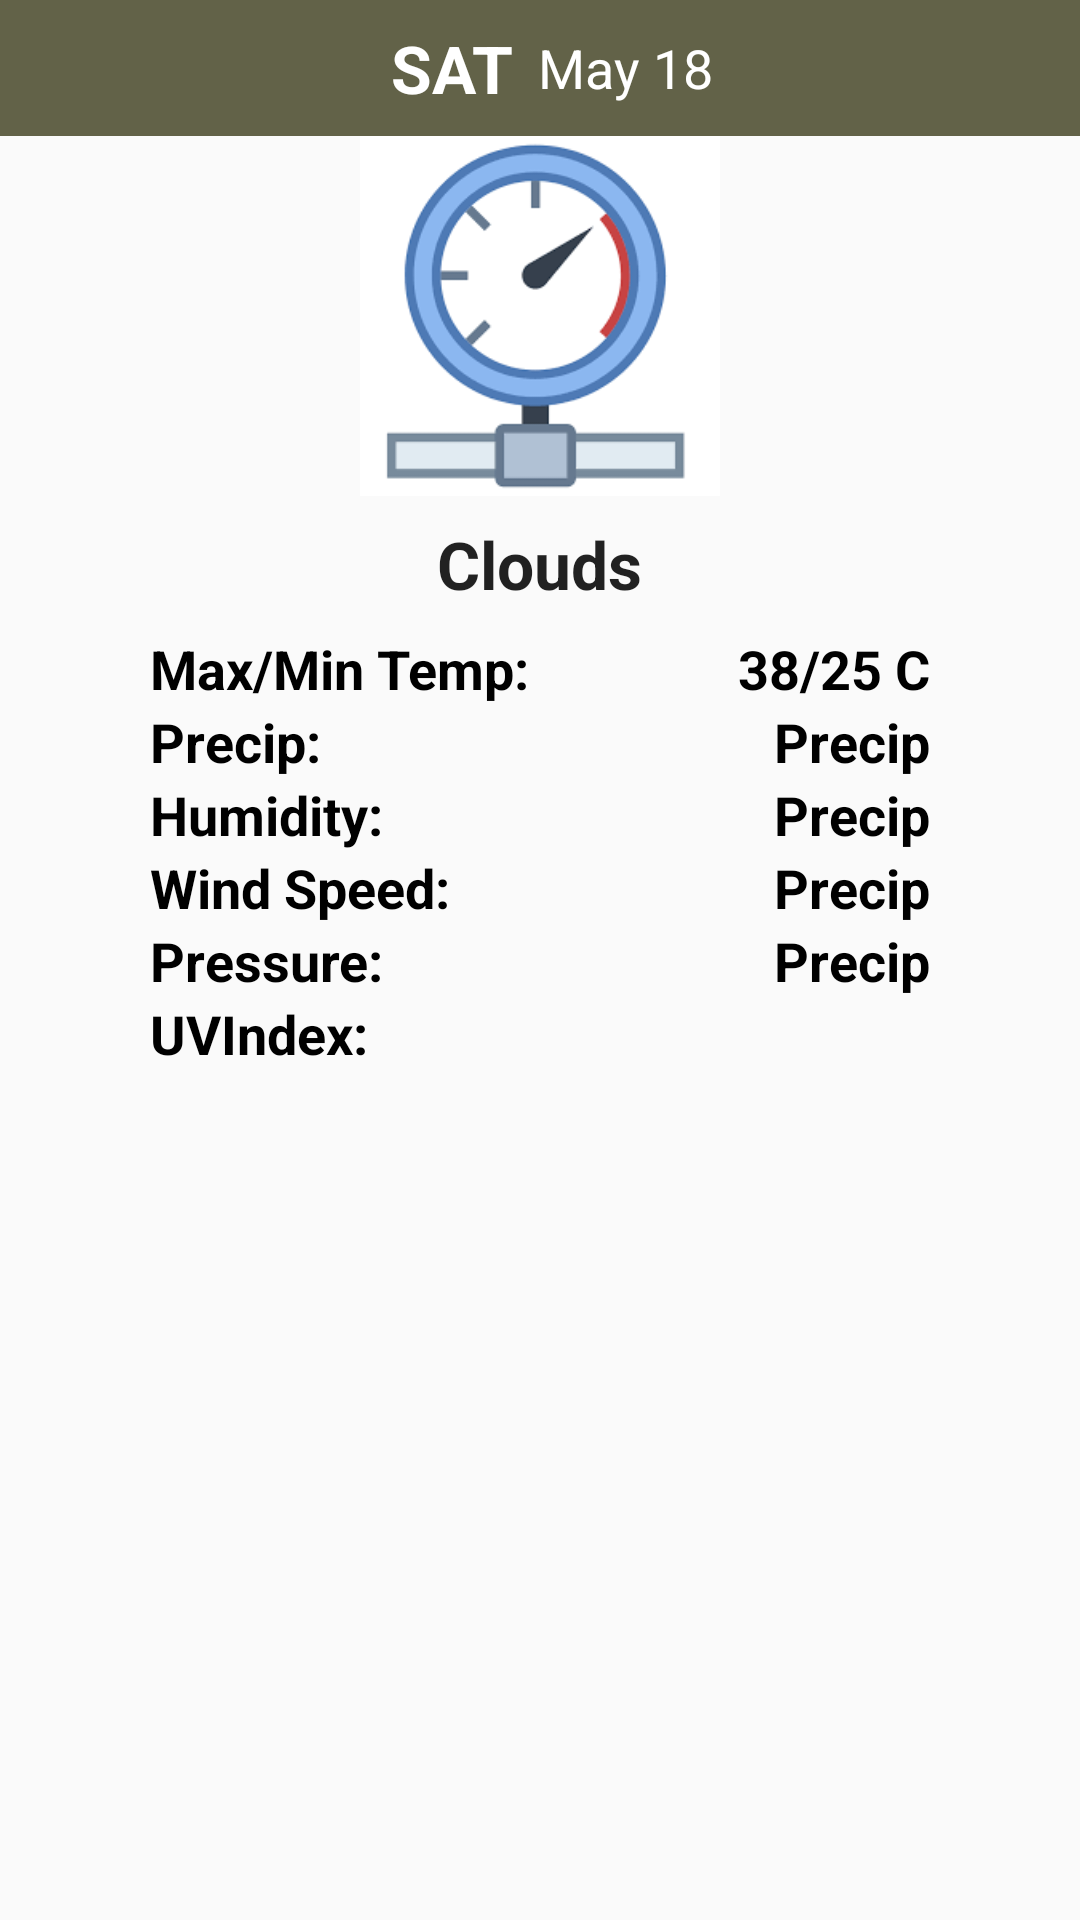

Locate icon controls on the screen. Image size 1080px×1920px, boxes as (x1=x1, y1=y1, x2=x2, y2=y2).
iconpressure: (x1=387, y1=144, x2=685, y2=488)
